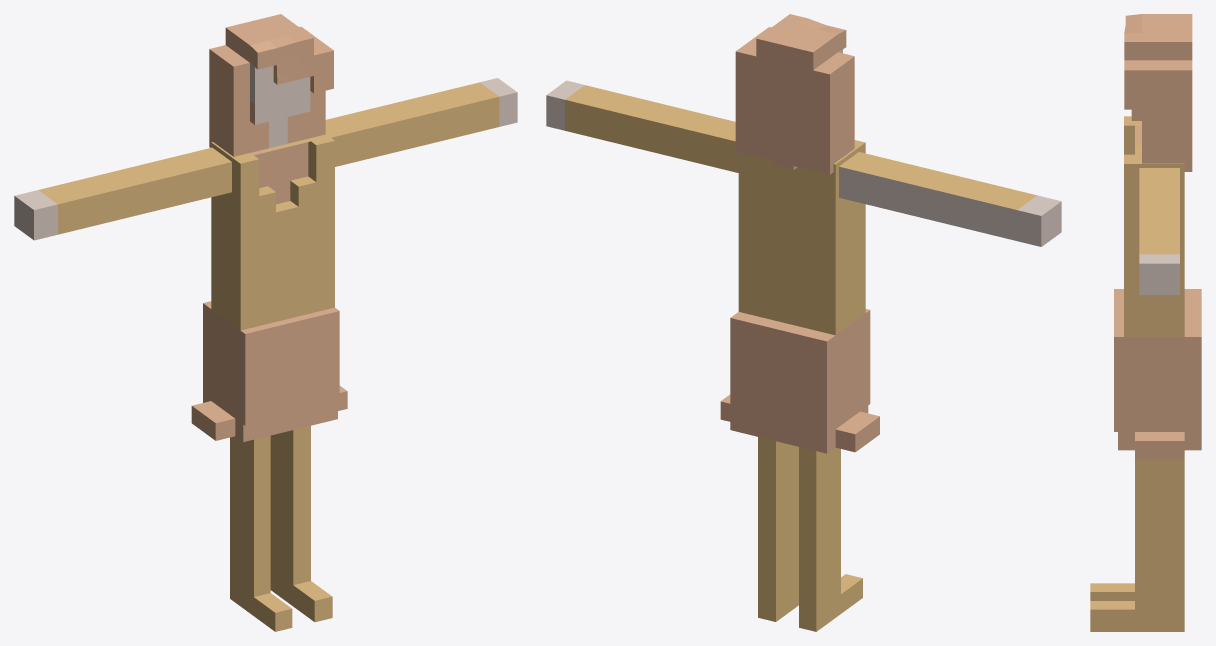
File: girl2.fbx
3 renders of one model, left to right at view 1: azimuth 30°, elevation 25°; view 2: azimuth 150°, elevation 25°; view 3: azimuth 270°, elevation 25°, orthographic. The views are drawn at different scales.
Parts seen in each view (by area): view 1: polySurface6, pCube5, polySurface8, polySurface9, polySurface10, polySurface7; view 2: polySurface6, pCube5, polySurface8, polySurface9, polySurface7, polySurface10; view 3: polySurface6, polySurface10, pCube5, polySurface9, polySurface7.
Part boxes in pixels (x1=…): polySurface6: x1=191, y1=134, x2=347, y2=441; pCube5: x1=209, y1=14, x2=333, y2=156; polySurface8: x1=14, y1=147, x2=231, y2=240; polySurface9: x1=325, y1=78, x2=517, y2=166; polySurface10: x1=270, y1=426, x2=332, y2=622; polySurface7: x1=230, y1=435, x2=292, y2=631; polySurface6: x1=720, y1=140, x2=879, y2=453; pCube5: x1=735, y1=14, x2=854, y2=174; polySurface8: x1=839, y1=152, x2=1061, y2=246; polySurface9: x1=546, y1=80, x2=738, y2=172; polySurface7: x1=799, y1=447, x2=862, y2=631; polySurface10: x1=758, y1=437, x2=798, y2=621; polySurface6: x1=1114, y1=116, x2=1201, y2=459; polySurface10: x1=1090, y1=459, x2=1184, y2=631; pCube5: x1=1124, y1=14, x2=1192, y2=171; polySurface9: x1=1139, y1=168, x2=1179, y2=294; polySurface7: x1=1090, y1=583, x2=1134, y2=600.
Size of the model in its own units: 2.99 by 3.36 by 0.5752.
